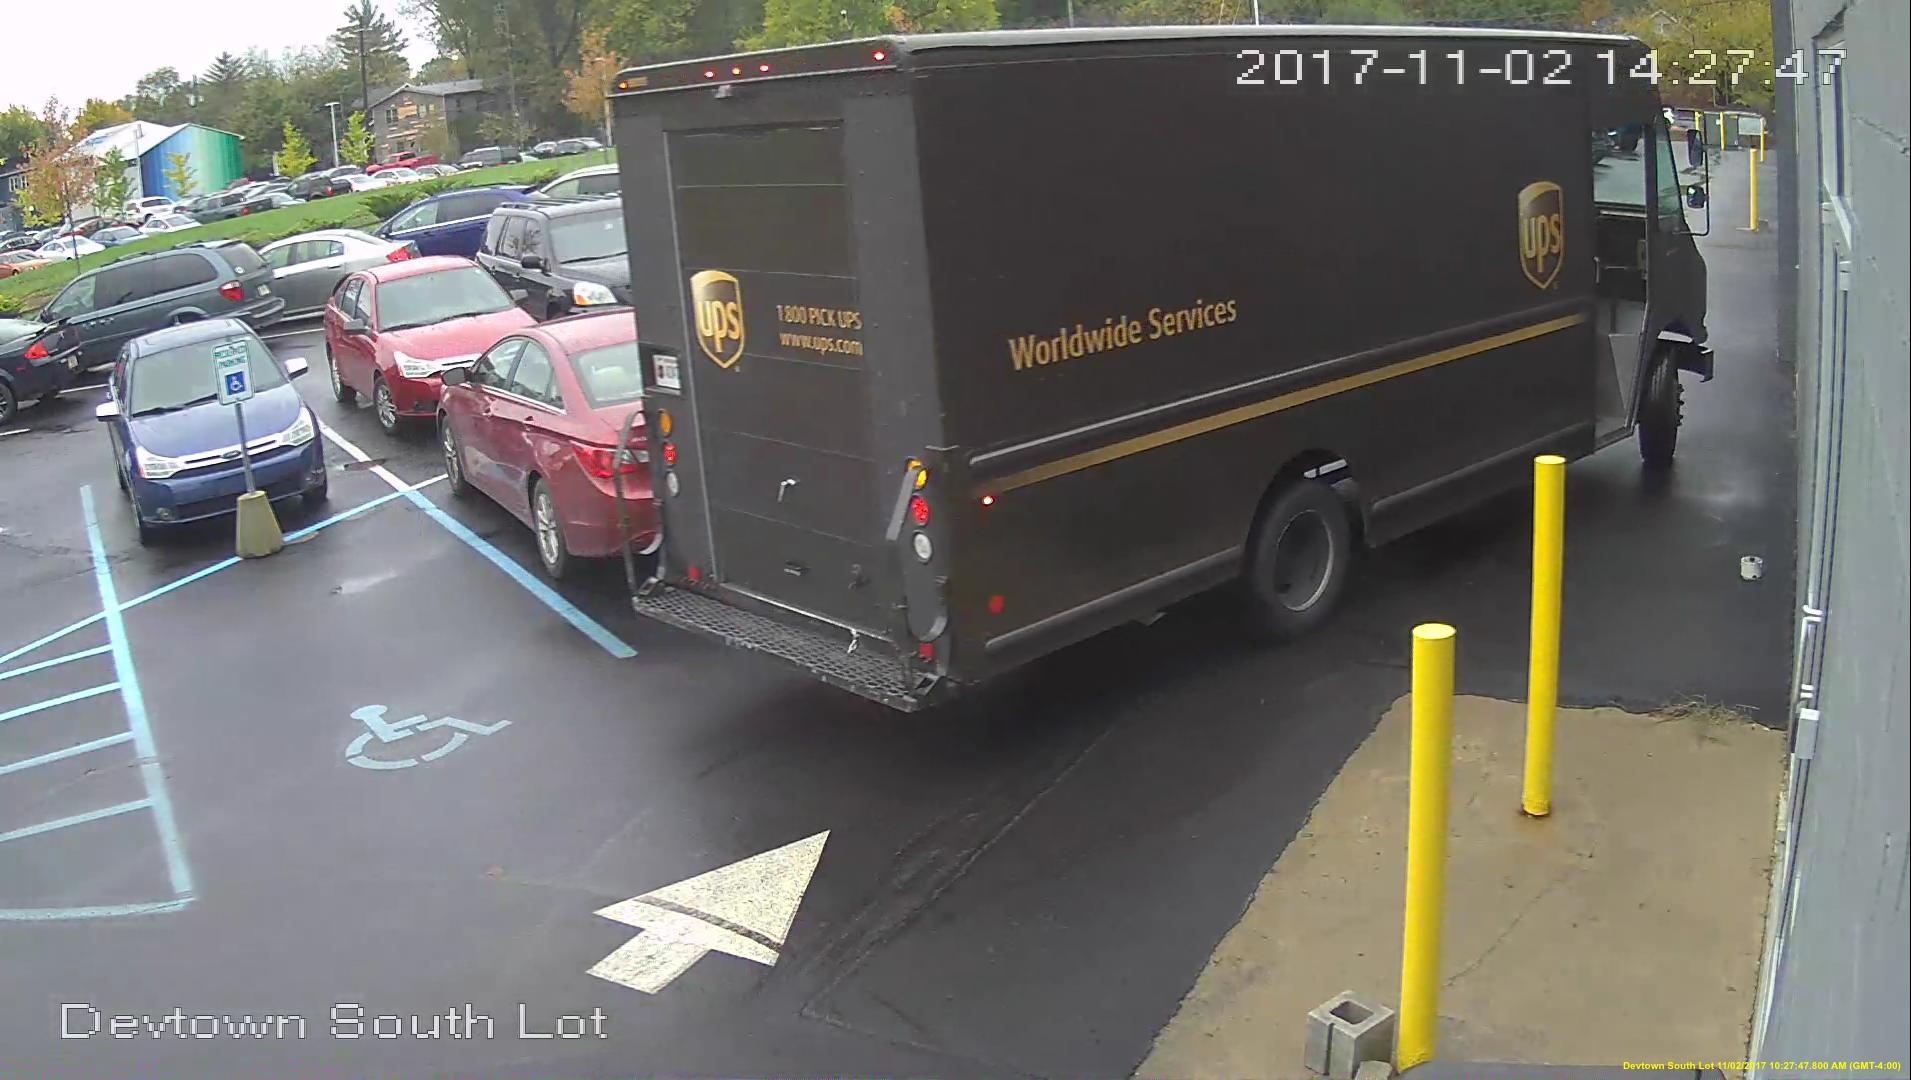ups_truck: (616, 31, 1710, 678)
